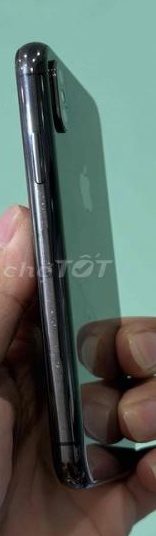scratch: (26, 190, 73, 380)
